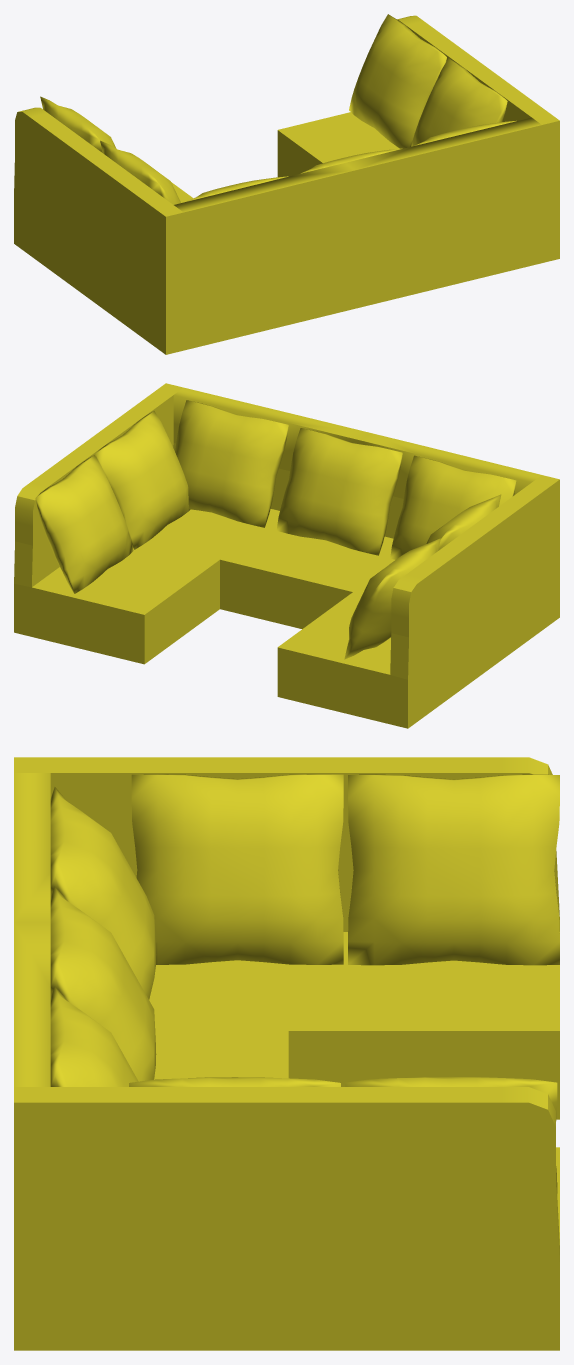
Rendered from CfrontBoxsofa.fbx.
3 views of the same model, one above another, from view 1: azimuth 30°, elevation 25°; view 2: azimuth 150°, elevation 25°; view 3: azimuth 270°, elevation 25° (orthographic). The views are drawn at different scales.
Visible parts, largest first — view 1: polySurface11; view 2: polySurface11; view 3: polySurface11.
Part boxes in pixels (bbox=[...]): polySurface11: bbox=[14, 14, 559, 354]; polySurface11: bbox=[14, 383, 559, 728]; polySurface11: bbox=[14, 757, 559, 1350].
Bounding box in the file's own units: 2.98 × 1.02 × 1.99.
Materials: 1 (1 with a texture image).
